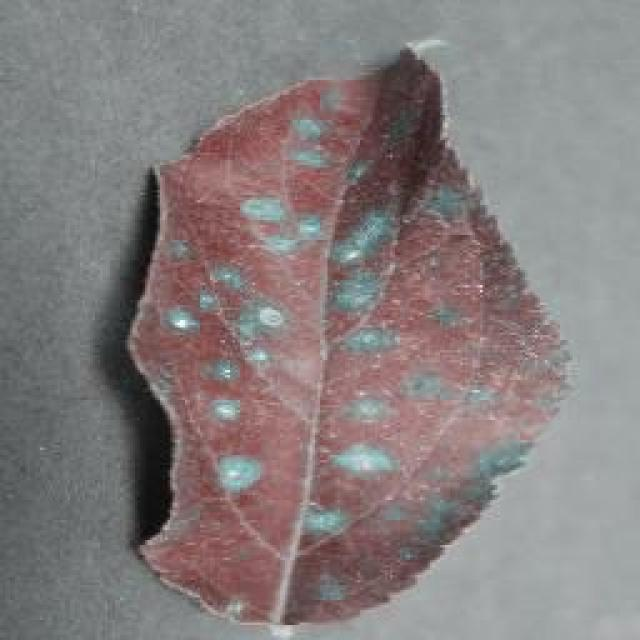apple healthy: (122, 42, 572, 630)
